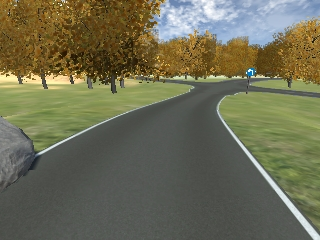left: (246, 68, 255, 76)
